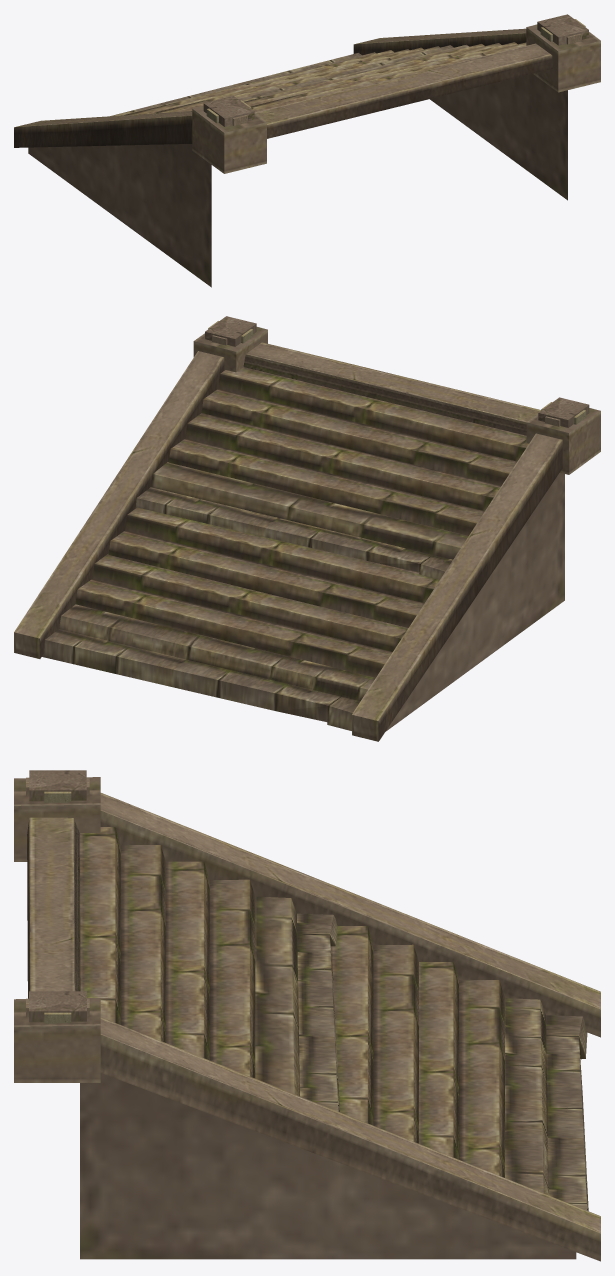
File: Ladder02_Build_LV001.FBX
3 views of the same model, one above another, from view 1: azimuth 30°, elevation 25°; view 2: azimuth 150°, elevation 25°; view 3: azimuth 270°, elevation 25° (orthographic). The views are drawn at different scales.
Parts seen in each view (by area): view 1: Ladder02_Build_LV001; view 2: Ladder02_Build_LV001; view 3: Ladder02_Build_LV001.
Boxes of the visible parts, x1,y1,x2,y2 form: Ladder02_Build_LV001: (14, 14, 600, 287); Ladder02_Build_LV001: (14, 316, 600, 741); Ladder02_Build_LV001: (14, 770, 600, 1261).
Bounding box in the file's own units: 781 × 366 × 778.
Materials: 1 (1 with a texture image).
